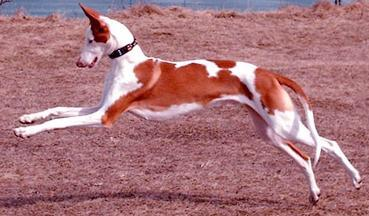Ibizan_hound: (11, 1, 361, 203)
